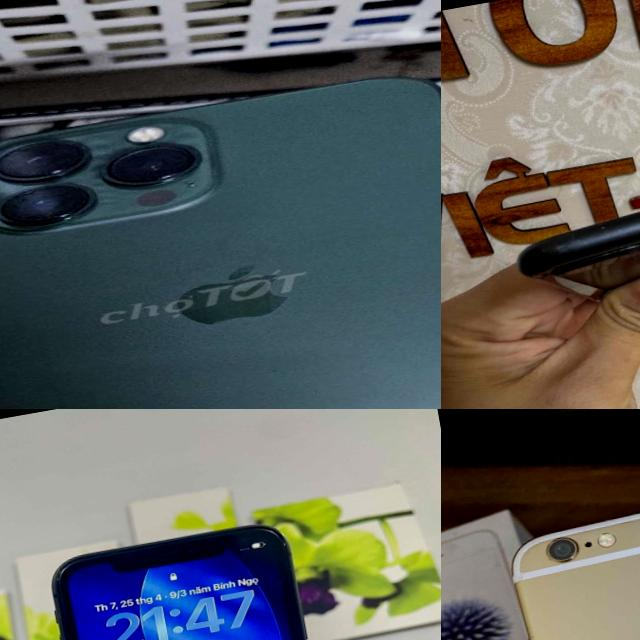scratch: (516, 150, 640, 272)
